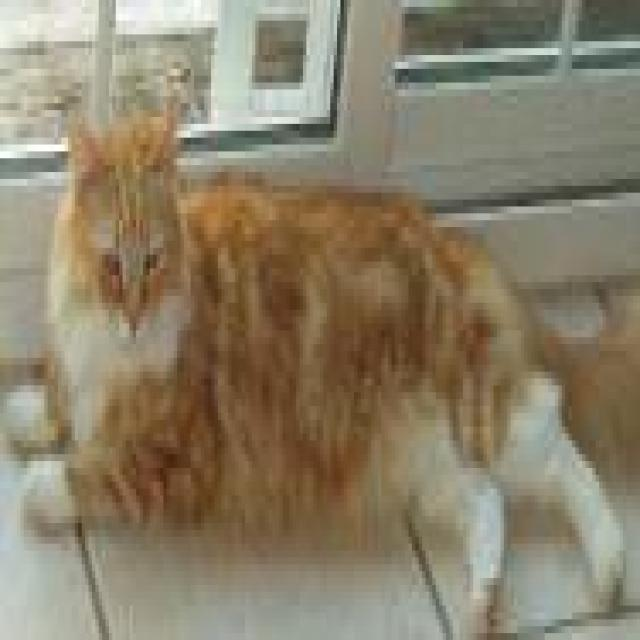cat: (7, 90, 630, 633)
